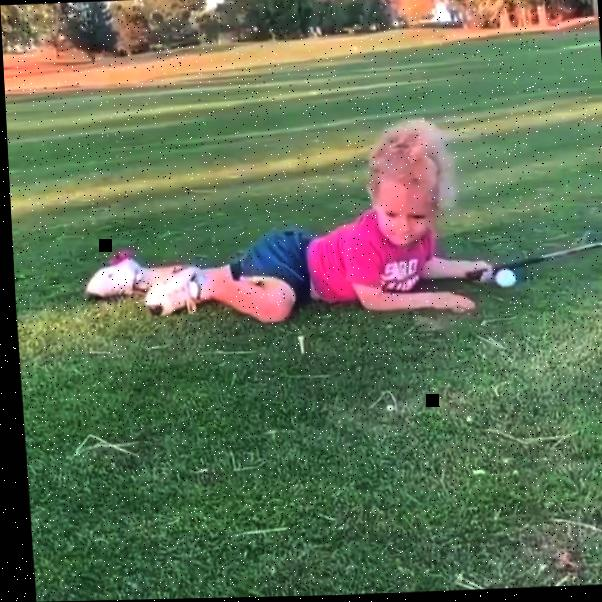GolfBall: (494, 267, 516, 289)
